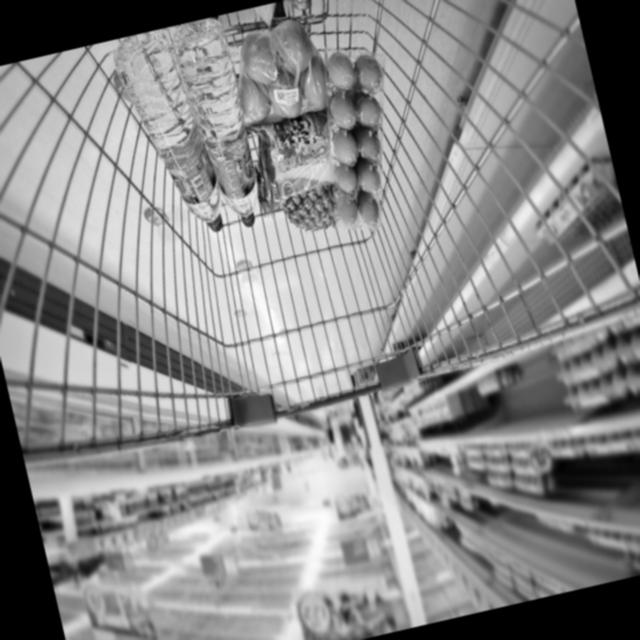dua: (273, 181, 343, 242)
tao: (222, 15, 336, 130)
trung: (301, 39, 418, 242)
